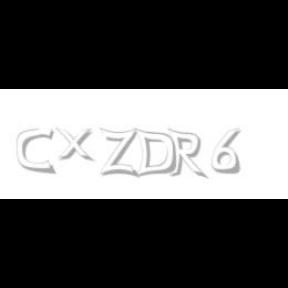6: (212, 128, 240, 176)
C: (16, 128, 54, 174)
D: (134, 128, 176, 178)
R: (167, 128, 205, 180)
Z: (100, 128, 138, 178)
x: (55, 128, 97, 162)
